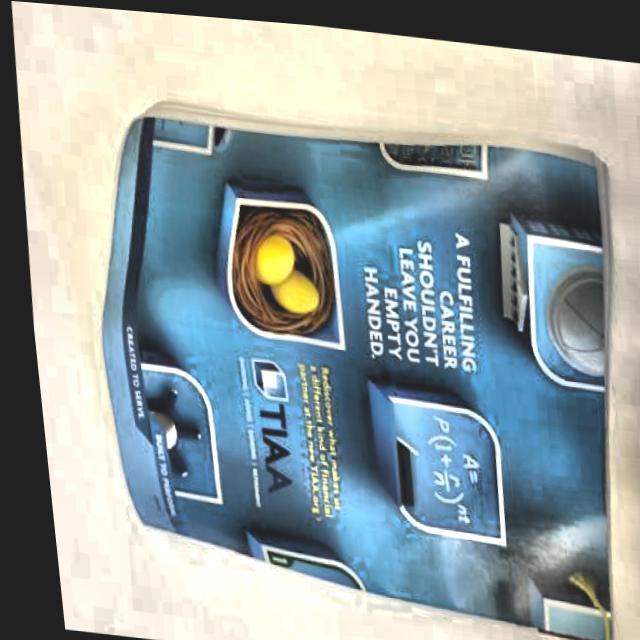Paper: (55, 72, 640, 640)
